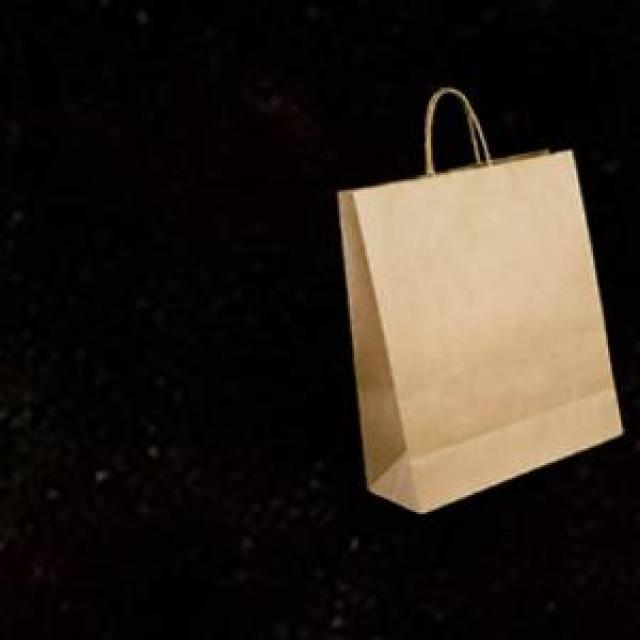paper: (335, 85, 619, 508)
